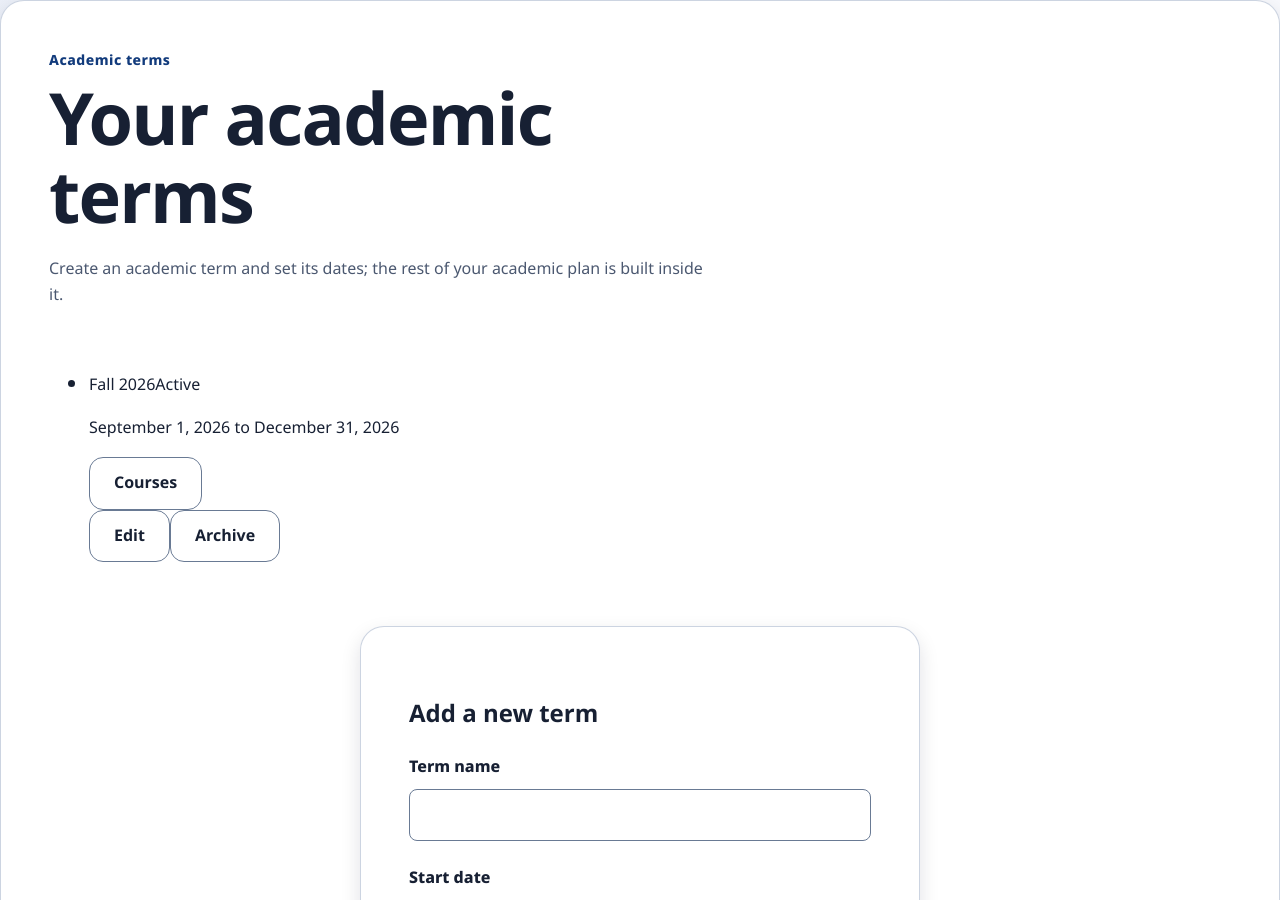
academic term views › requires a second click to confirm archiving a term
What coordinates should you click on to do the following:
click the button "Archive"
I would click on:
 (225, 536)
Its box is [170,510,280,562].
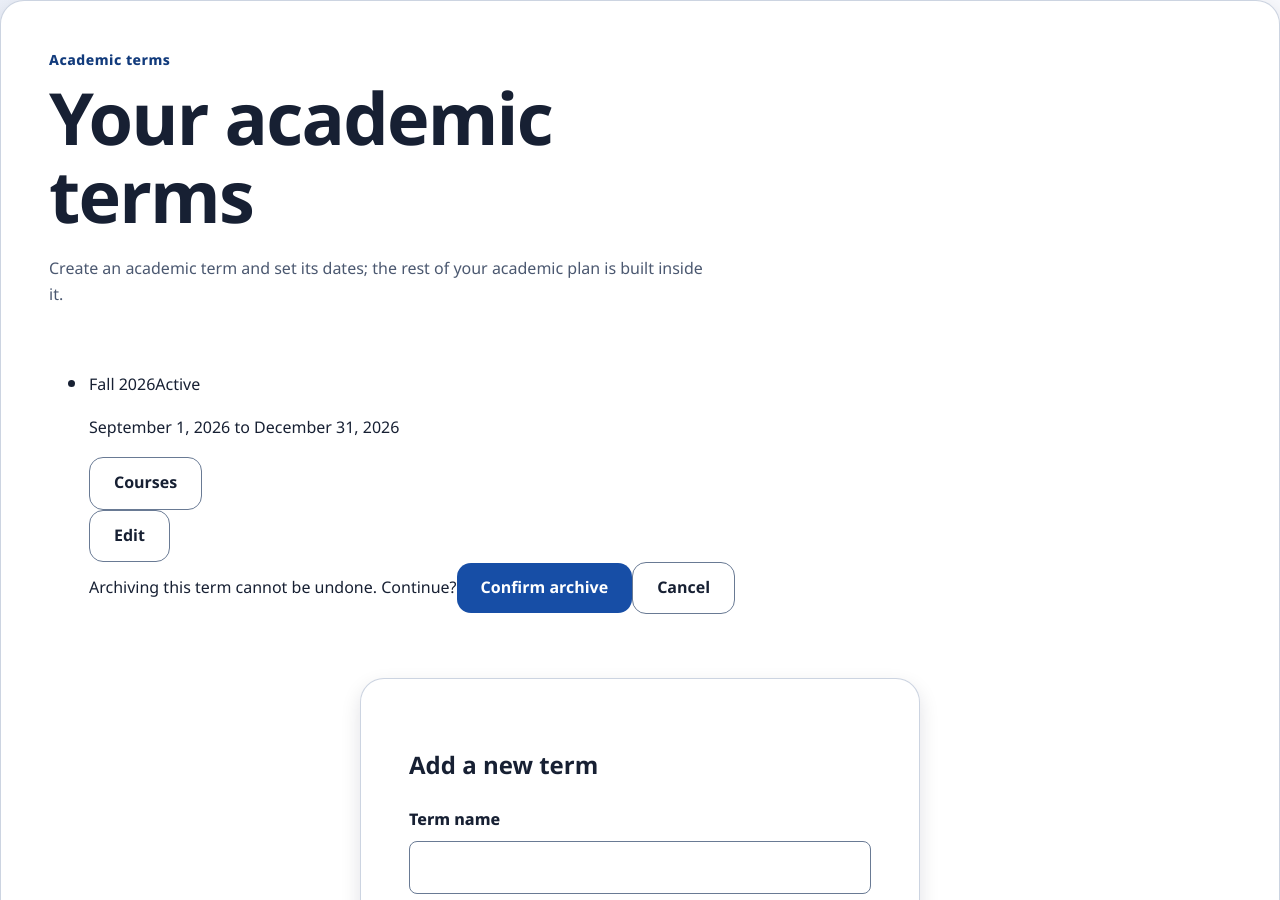
Result: the text "Archiving this term cannot be undone. Continue?" is shown at [89,571,457,605]
Result: the button "Confirm archive" is shown at [457,563,632,613]
